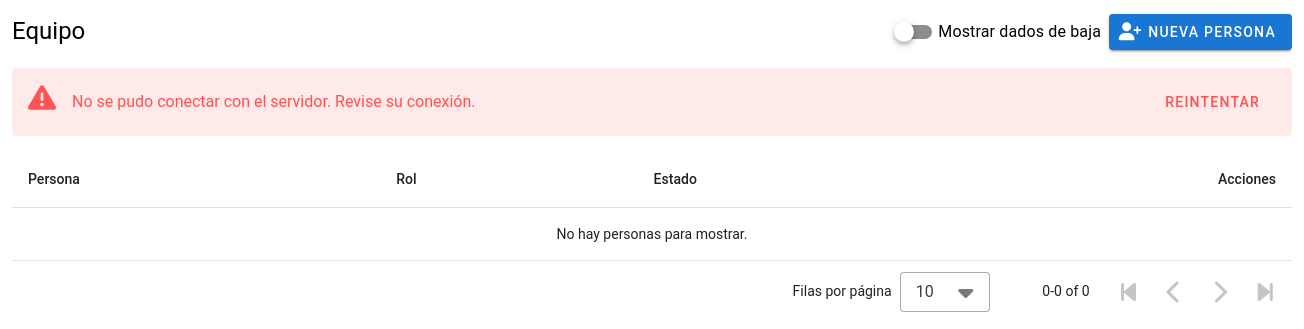
Test: EquipoView › listado › si falla la carga muestra el error y permite reintentar
Click the button "Reintentar": (1212, 102) x1=1148 y1=84 x2=1276 y2=120
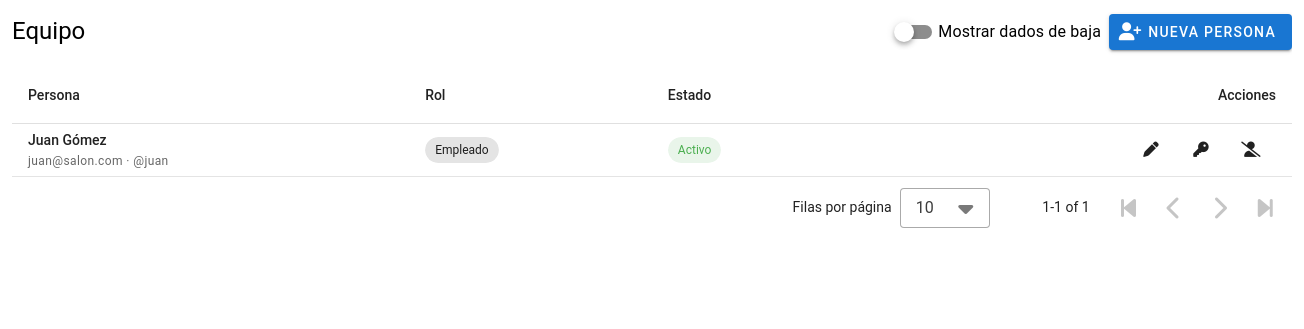
Now the text "Juan Gómez" is shown, box x1=28 y1=132 x2=107 y2=148
